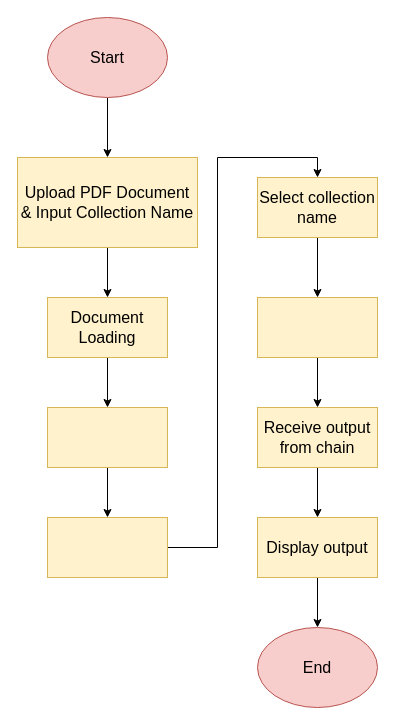
Image size: 395x725. Some labels were removed from this diagram. The shapes that lost their labels are listed below. From the top down, each one's centre as x and y in pixels, then its label:
the point at 317,327: Enter query
the point at 107,437: Splitting and Chunking
the point at 107,547: Retrieve using Conversational Retrieval Chain
